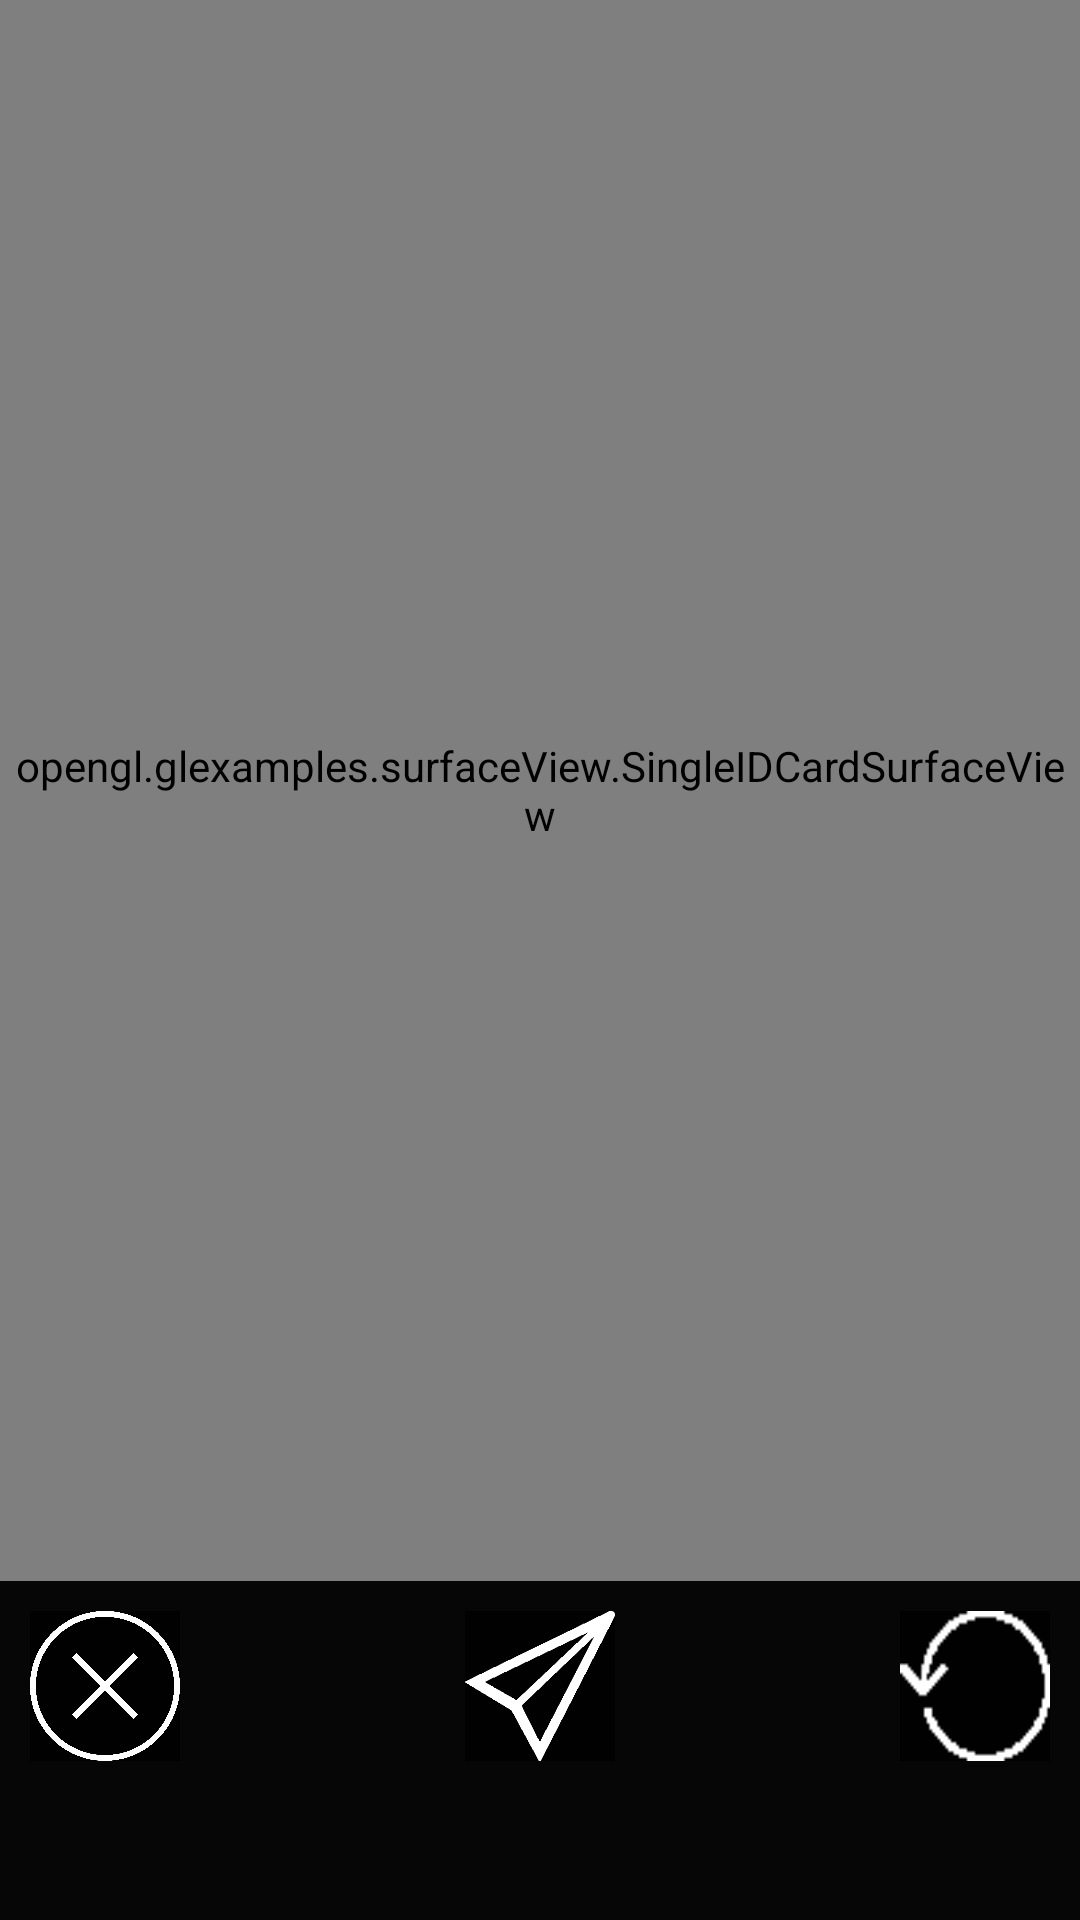

Icon bounding boxes for this 1080px×1920px phone screenshot, format {"left": x1, "top": y1, "right": x2, "bottom": y2}:
delete: {"left": 30, "top": 1611, "right": 180, "bottom": 1761}
reset: {"left": 900, "top": 1611, "right": 1050, "bottom": 1761}
send: {"left": 465, "top": 1611, "right": 615, "bottom": 1761}
